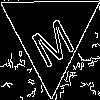M: (25, 9, 77, 70)
